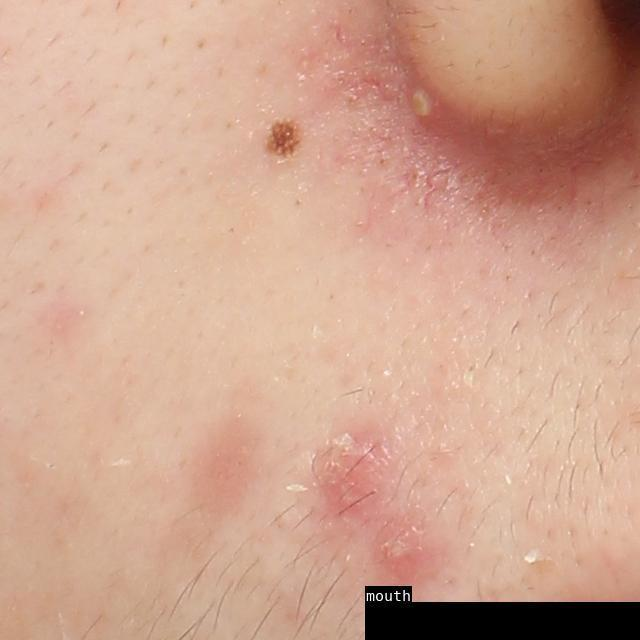nevus: (261, 114, 307, 162)
pustule: (400, 82, 441, 132)
